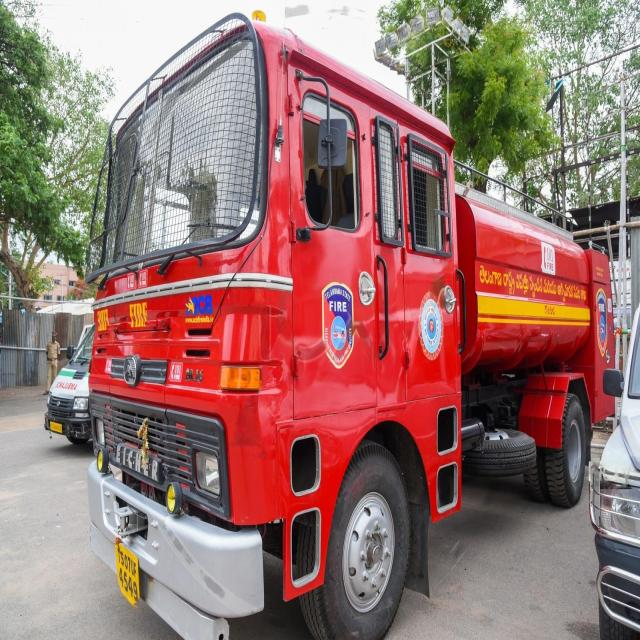emergency: (88, 15, 615, 639)
